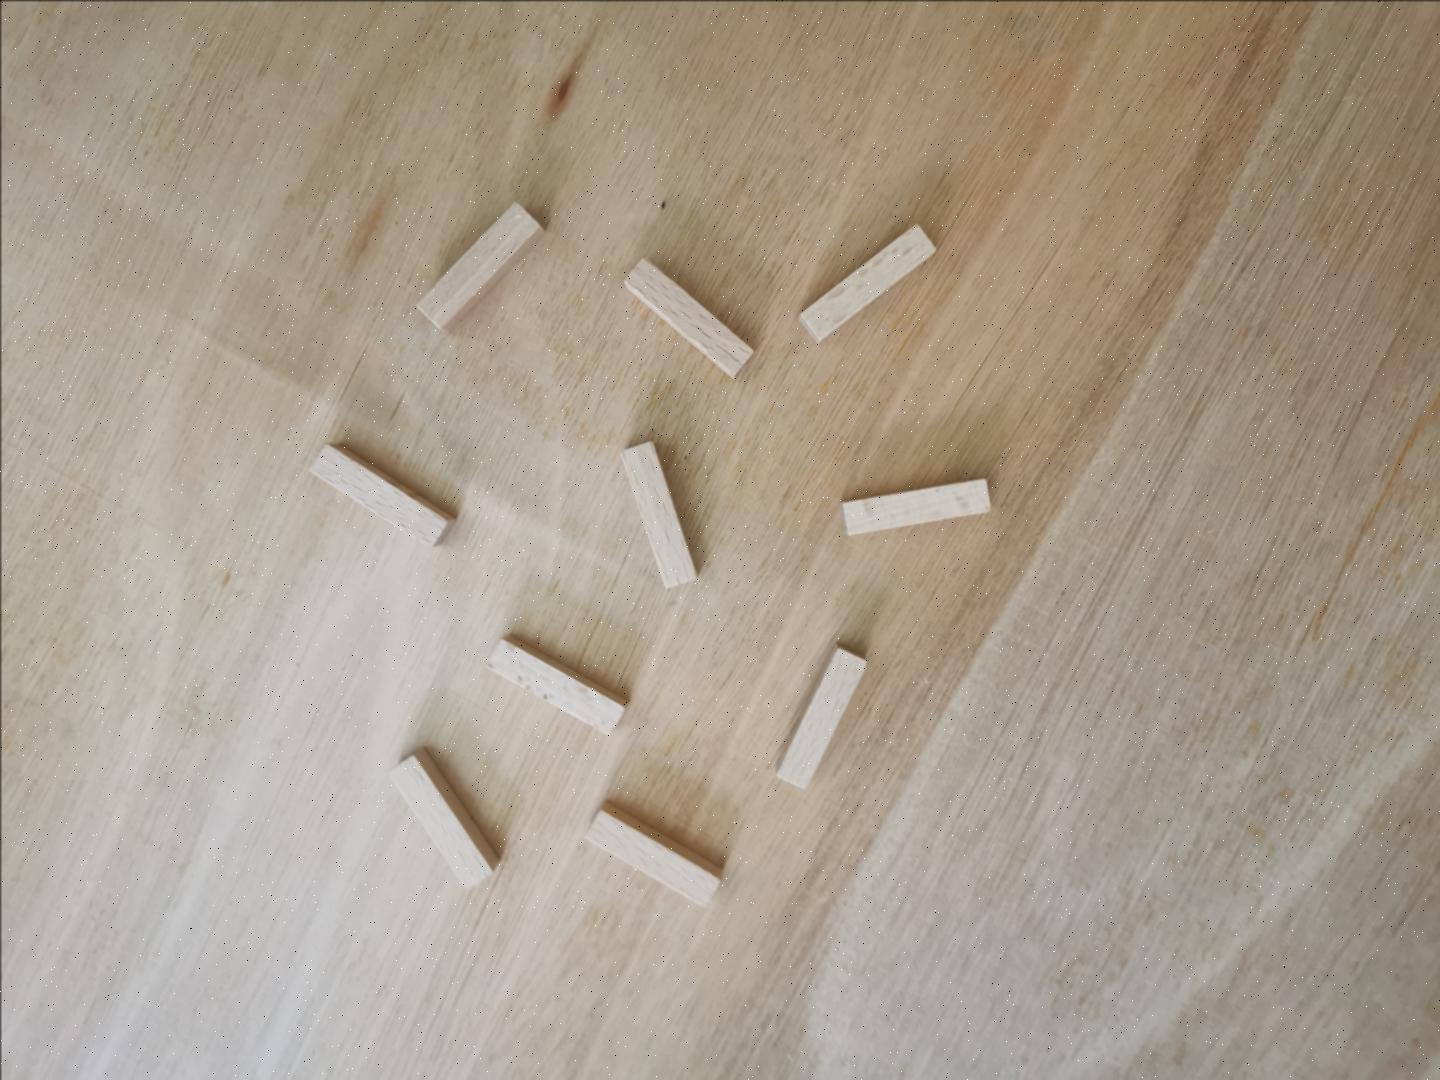jenga: (416, 202, 543, 332), (798, 225, 934, 340), (388, 748, 498, 886), (625, 259, 751, 377), (310, 445, 452, 546), (585, 802, 722, 905), (486, 635, 627, 734), (777, 647, 866, 787), (621, 441, 695, 588), (841, 478, 990, 534)
